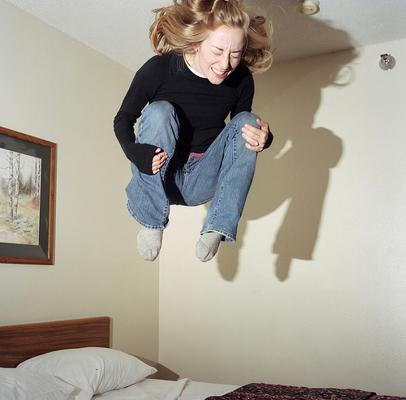person: (115, 1, 275, 265)
